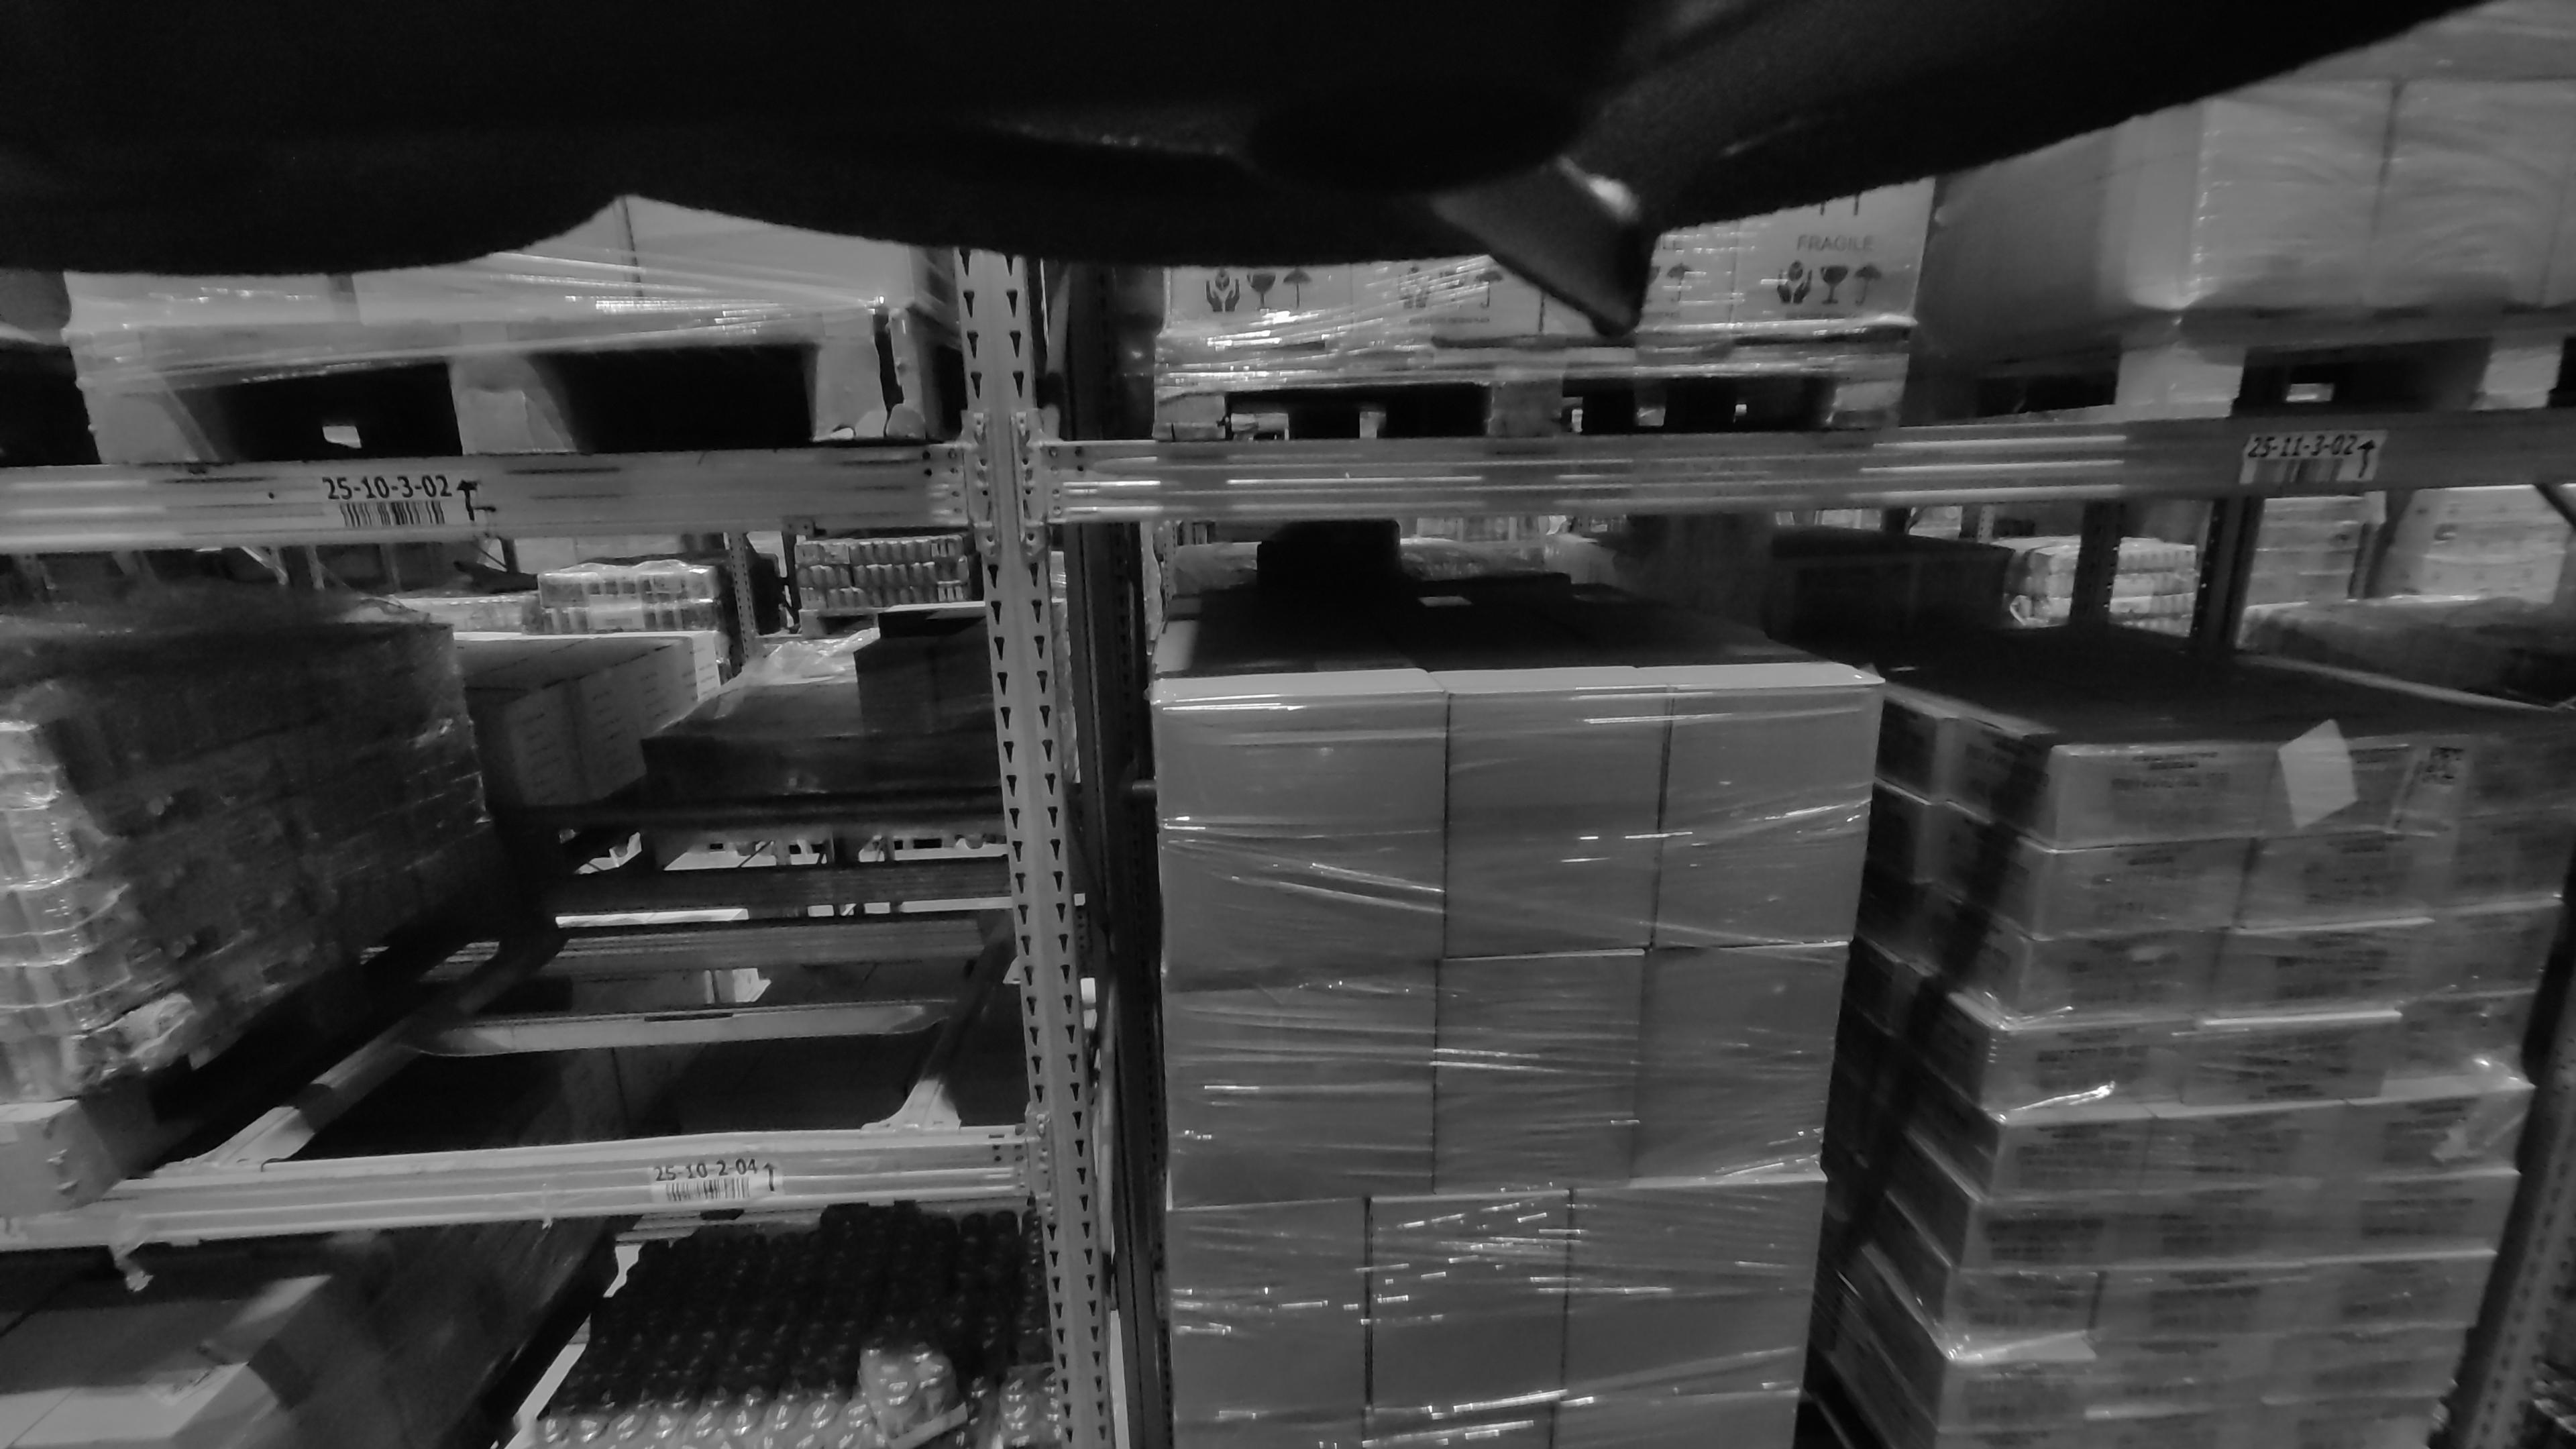empty-shelf: (340, 536, 922, 1132)
